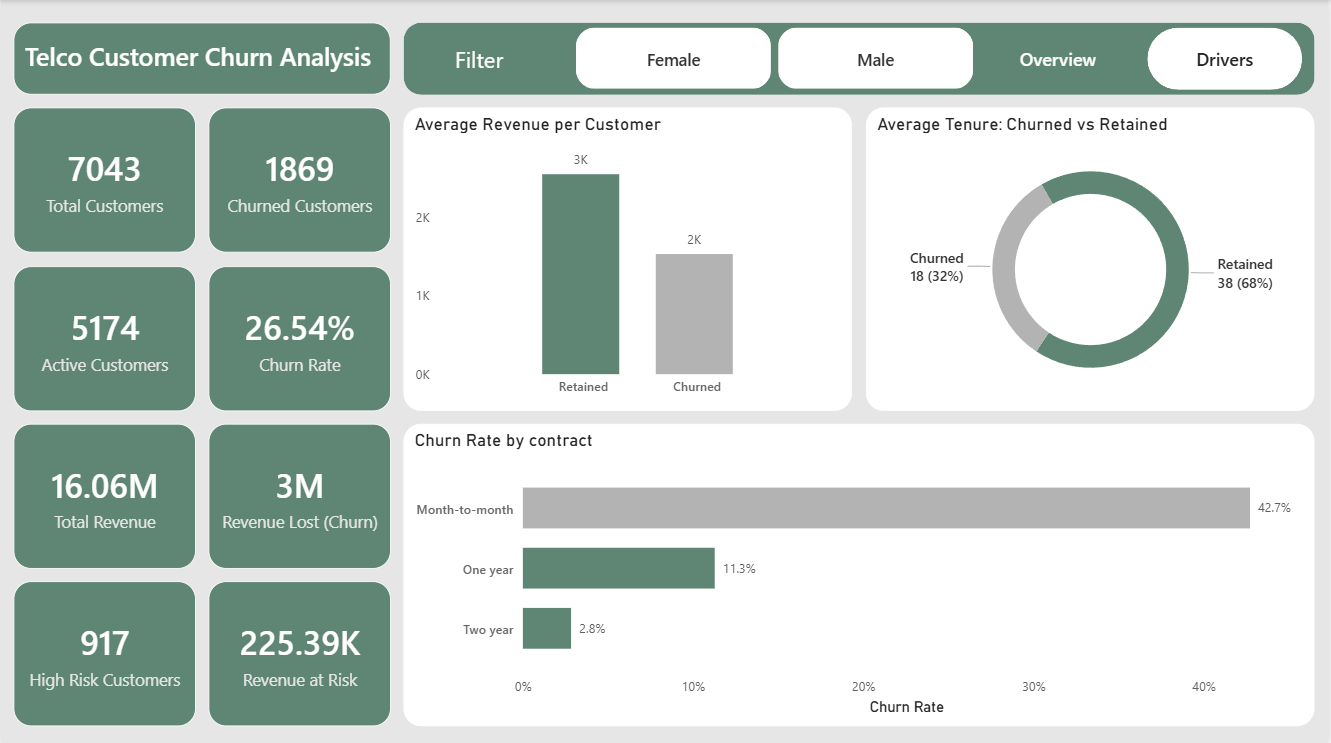

This screenshot's page, from the dashboard's own definition file:
{"tool":"powerbi","page":{"name":"Churn Overview","canvas":[1280,720],"ordinal":0},"visuals":[{"type":"textbox","box":[12.1,21.7,364.3,70],"z":0},{"type":"card","fields":{"Values":["Measure.Total Customer"]},"box":[12.7,104,175.7,140],"z":1000},{"type":"card","fields":{"Values":["Measure.Churned Customers"]},"box":[200.3,104,176.1,140],"z":2000},{"type":"card","fields":{"Values":["Measure.Churn Rate"]},"box":[200.3,256.4,176.1,139.9],"z":3000},{"type":"card","fields":{"Values":["Measure.Active Customer"]},"box":[12.1,256.4,176.1,139.9],"z":4000},{"type":"shape","box":[388.5,21.7,879.5,70],"z":5000},{"type":"card","fields":{"Values":["Measure.Total Charge"]},"box":[12.1,408.7,176.1,139.9],"z":6000},{"type":"card","title":"Revenue Lost Due to Churn","fields":{"Values":["Measure.Loss revenue"]},"box":[200.3,408.7,176.1,139.9],"z":7000},{"type":"columnChart","title":"Average Revenue per Customer ","fields":{"Category":["telco churn.Customer Type "],"Y":["Measure.Avg Revenue per Customer"]},"box":[388.5,103.8,433,293.2],"z":8000},{"type":"donutChart","title":"Average Tenure: Churned vs Retained","fields":{"Category":["telco churn.Customer Type "],"Y":["Measure.Avg month"]},"box":[834.9,103.8,433.1,293.2],"z":9000},{"type":"clusteredBarChart","fields":{"Category":["telco churn.contract"],"Y":["Measure.Churn Rate"]},"box":[388.5,409,879.5,292],"z":10000},{"type":"actionButton","box":[944.6,26.5,150.8,60.3],"z":11000},{"type":"actionButton","box":[1106.3,26.5,149.6,60.3],"z":12000},{"type":"advancedSlicerVisual","fields":{"Values":["Telco_Churn_fact.gender"]},"box":[550.1,21.7,394.5,70],"z":14000},{"type":"textbox","box":[398.1,26.5,132.7,60.3],"z":15000},{"type":"card","fields":{"Values":["Measure.High Risk Customers"]},"box":[12.1,561,176.1,139.9],"z":16000},{"type":"card","fields":{"Values":["Measure.Revenue at Risk"]},"box":[200.3,561,176.1,139.9],"z":17000}]}

Visuals, with their boxes in screenshot pixels (x1, y1, x2, y2), scaled from the page's 1280x720 canvas onto the 1331x743 screenshot:
textbox: <bbox>13, 22, 391, 95</bbox>
card - Measure.Total Customer: <bbox>13, 107, 196, 252</bbox>
card - Measure.Churned Customers: <bbox>208, 107, 391, 252</bbox>
card - Measure.Churn Rate: <bbox>208, 265, 391, 409</bbox>
card - Measure.Active Customer: <bbox>13, 265, 196, 409</bbox>
shape: <bbox>404, 22, 1319, 95</bbox>
card - Measure.Total Charge: <bbox>13, 422, 196, 566</bbox>
"Revenue Lost Due to Churn" card: <bbox>208, 422, 391, 566</bbox>
"Average Revenue per Customer " columnChart: <bbox>404, 107, 854, 410</bbox>
"Average Tenure: Churned vs Retained" donutChart: <bbox>868, 107, 1319, 410</bbox>
clusteredBarChart - telco churn.contract x Measure.Churn Rate: <bbox>404, 422, 1319, 723</bbox>
actionButton: <bbox>982, 27, 1139, 90</bbox>
actionButton: <bbox>1150, 27, 1306, 90</bbox>
advancedSlicerVisual - Telco_Churn_fact.gender: <bbox>572, 22, 982, 95</bbox>
textbox: <bbox>414, 27, 552, 90</bbox>
card - Measure.High Risk Customers: <bbox>13, 579, 196, 723</bbox>
card - Measure.Revenue at Risk: <bbox>208, 579, 391, 723</bbox>
